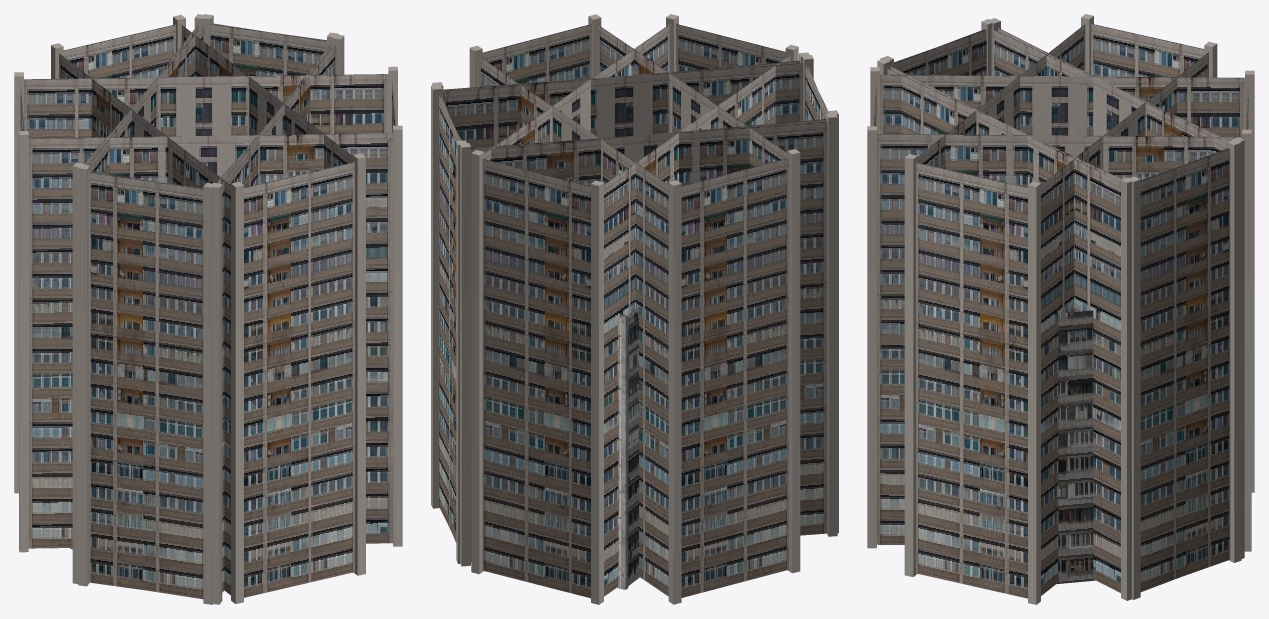
The model's file is street_city_7_for_games_free.glb.
The picture shows the model from 3 angles, left to right: view 1: azimuth 30°, elevation 25°; view 2: azimuth 150°, elevation 25°; view 3: azimuth 270°, elevation 25°; orthographic projection.
Visible parts, largest first — view 1: sc_panel_151, sc_panel_157, sc_panel_155, sc_panel_153; view 2: sc_panel_157, sc_panel_151, sc_panel_153, sc_panel_155, sc_panel_38; view 3: sc_panel_157, sc_panel_153, sc_panel_151, sc_panel_155, sc_panel_35.
Boxes of the visible parts, bbox=[...] form: sc_panel_151: bbox=[51, 15, 365, 603]; sc_panel_157: bbox=[14, 66, 402, 552]; sc_panel_155: bbox=[78, 14, 338, 604]; sc_panel_153: bbox=[72, 14, 344, 604]; sc_panel_157: bbox=[469, 14, 800, 604]; sc_panel_151: bbox=[471, 14, 798, 604]; sc_panel_153: bbox=[432, 55, 837, 563]; sc_panel_155: bbox=[431, 52, 838, 566]; sc_panel_38: bbox=[617, 307, 639, 589]; sc_panel_157: bbox=[904, 14, 1217, 604]; sc_panel_153: bbox=[880, 18, 1241, 600]; sc_panel_151: bbox=[867, 67, 1254, 551]; sc_panel_155: bbox=[877, 19, 1244, 599]; sc_panel_35: bbox=[1057, 310, 1095, 583].
Bounding box in the file's own units: 49.57 × 55.83 × 46.91.
12 materials, 11 textured.
